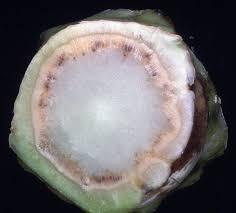Verticillium wilt: (34, 35, 177, 187)
